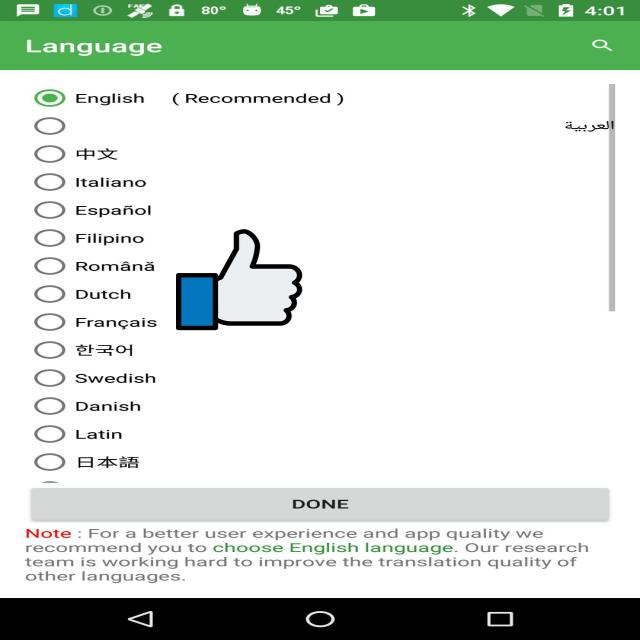privacy zuckering: (176, 227, 302, 332)
